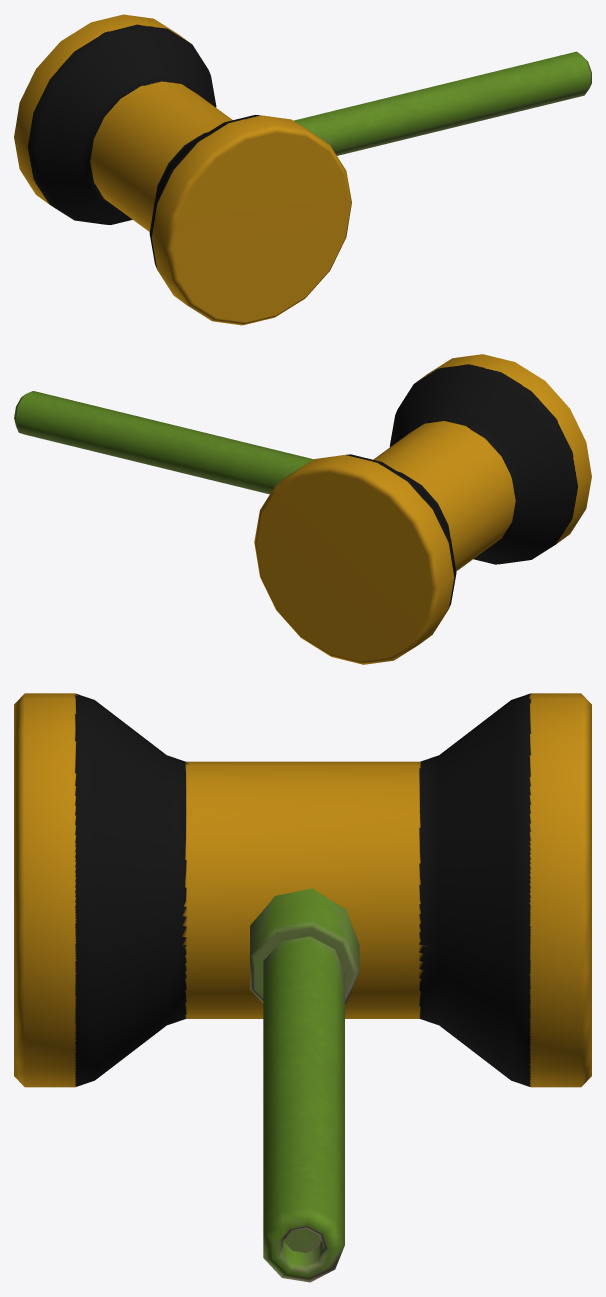
Rendered from Hammer.FBX.
3 renders of one model, top to bottom at view 1: azimuth 30°, elevation 25°; view 2: azimuth 150°, elevation 25°; view 3: azimuth 270°, elevation 25°, orthographic. The views are drawn at different scales.
Visible parts, largest first — view 1: Hammer; view 2: Hammer; view 3: Hammer.
Boxes of the visible parts, x1,y1,x2,y2 form: Hammer: [14, 14, 591, 325]; Hammer: [14, 354, 591, 664]; Hammer: [14, 693, 591, 1282].
Size of the model in its own units: 29 by 10.78 by 16.
